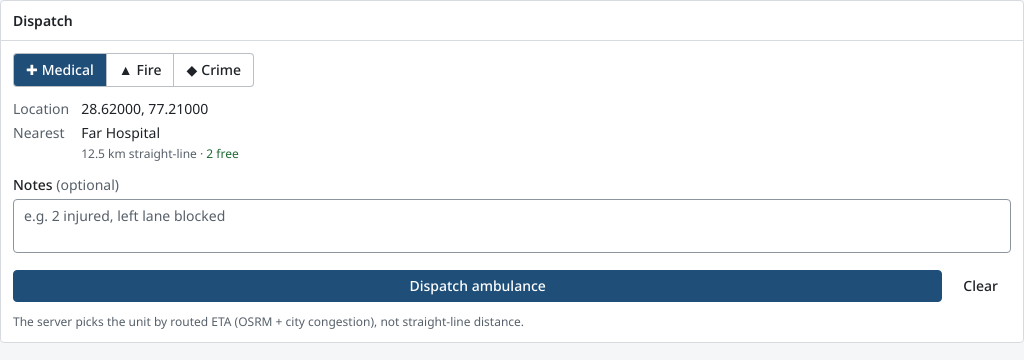
Test: DispatchPanel › shows a toast for 409
Click the button "Dispatch ambulance": {"x": 478, "y": 286} [13, 270, 942, 302]
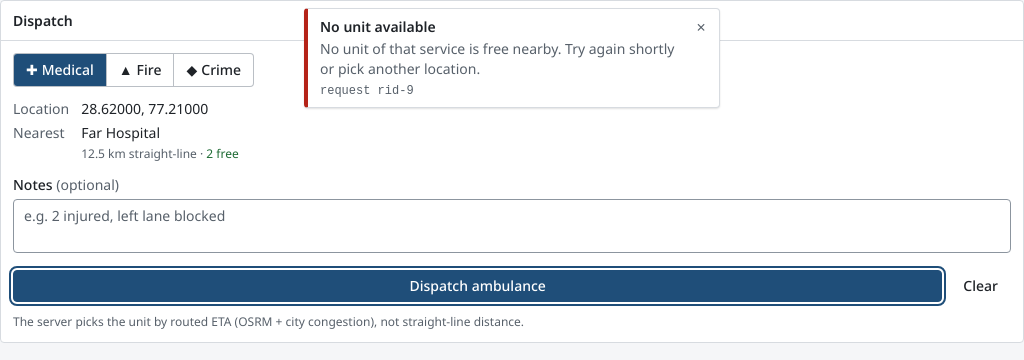
Result: the message shows "No unit available" at [320, 17, 436, 36]
Result: the message shows "No unit of that service is free" at [320, 39, 674, 78]
Result: the message shows "request rid-9" at [320, 84, 414, 98]
